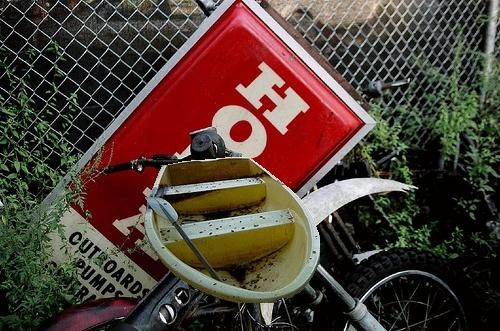tampered: (145, 158, 320, 303)
